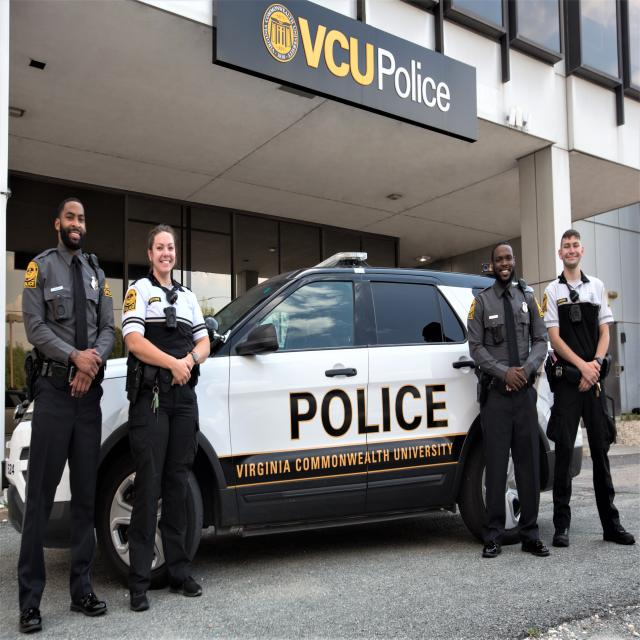police: (111, 212, 229, 611), (20, 165, 116, 628), (548, 217, 639, 584), (458, 231, 550, 585)
